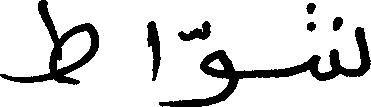X: (0, 0, 99, 89), (312, 0, 370, 85), (199, 16, 235, 106), (146, 16, 160, 106)
